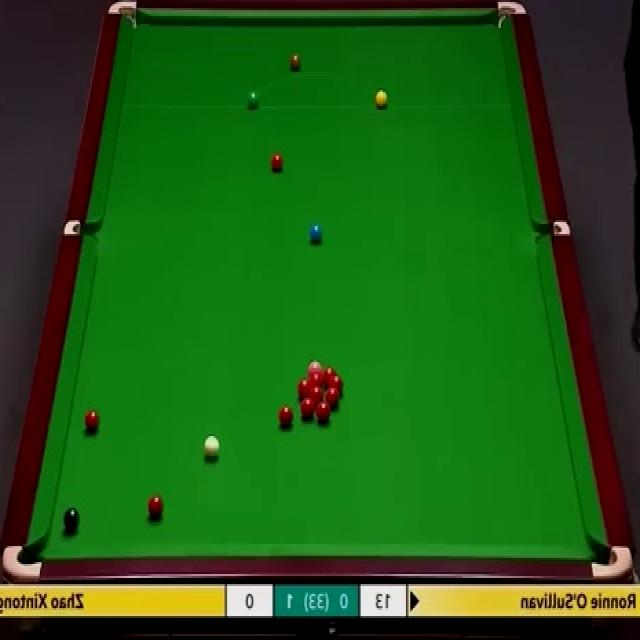pocket: (1, 540, 42, 582), (591, 546, 633, 580), (497, 0, 526, 31), (108, 3, 138, 26), (64, 218, 99, 237), (535, 218, 568, 238)
